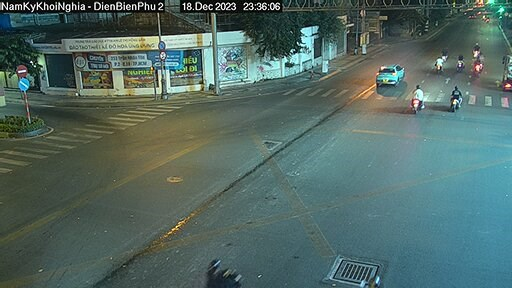car: (371, 57, 411, 90)
motorbike: (409, 87, 429, 113), (449, 88, 464, 114), (432, 58, 442, 70)
